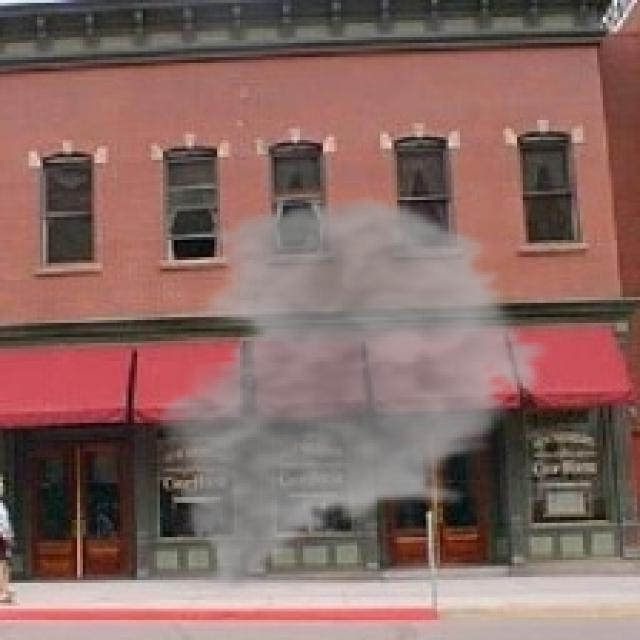smoke: (146, 192, 557, 594)
